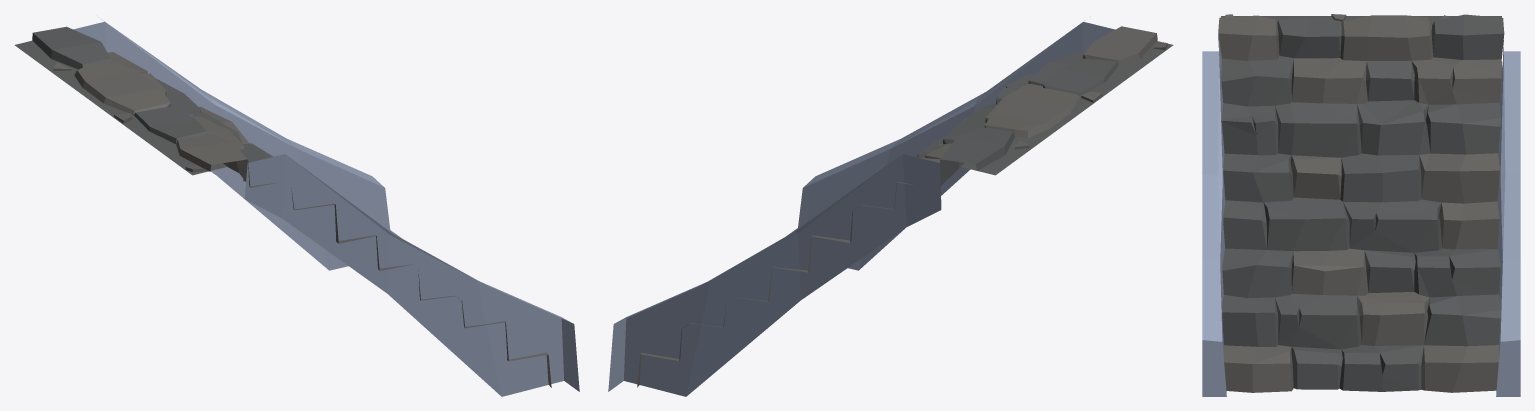
The model's file is Stairs.glb.
3 renders of one model, left to right at view 1: azimuth 30°, elevation 25°; view 2: azimuth 150°, elevation 25°; view 3: azimuth 270°, elevation 25°, orthographic. The views are drawn at different scales.
Visible parts, largest first — view 1: Stairs; view 2: Stairs; view 3: Stairs.
Boxes of the visible parts, x1,y1,x2,y2 form: Stairs: [14, 17, 579, 396]; Stairs: [608, 21, 1173, 396]; Stairs: [1202, 14, 1520, 396].
Bounding box in the file's own units: 0.9831 × 0.7733 × 0.9153.
1 material, 1 textured.
